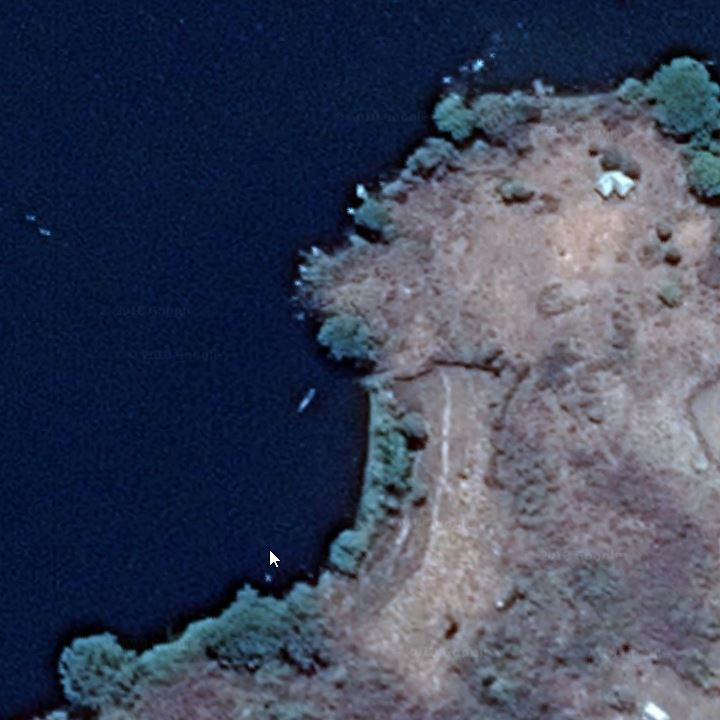boat: (291, 384, 321, 417)
